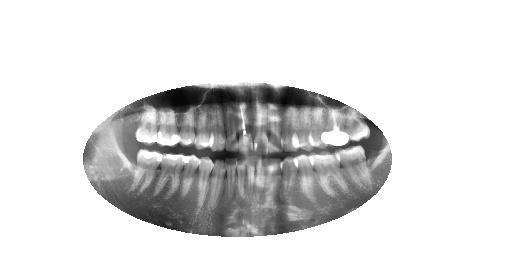Fillings: (129, 149, 163, 198), (155, 151, 186, 203), (156, 106, 180, 149), (136, 104, 158, 145)
Implant: (311, 153, 351, 198), (323, 108, 349, 150)
